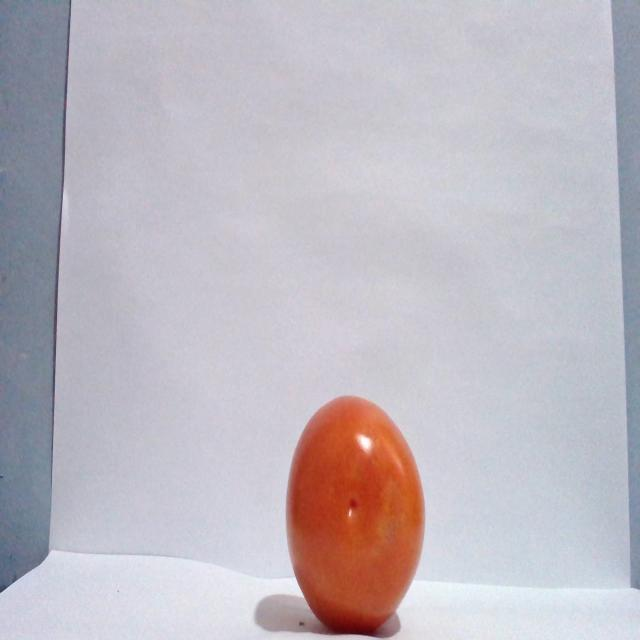Red: (283, 393, 426, 633)
